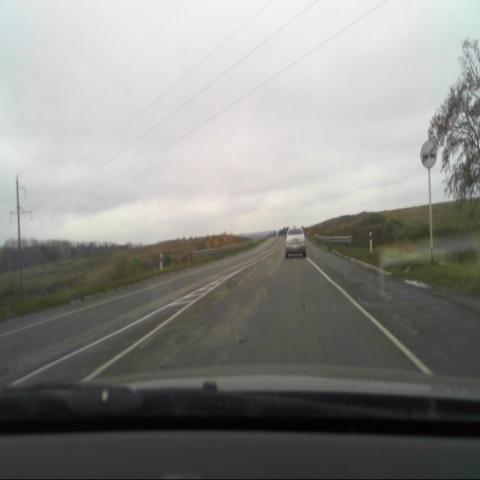3_21: (419, 138, 438, 169)
